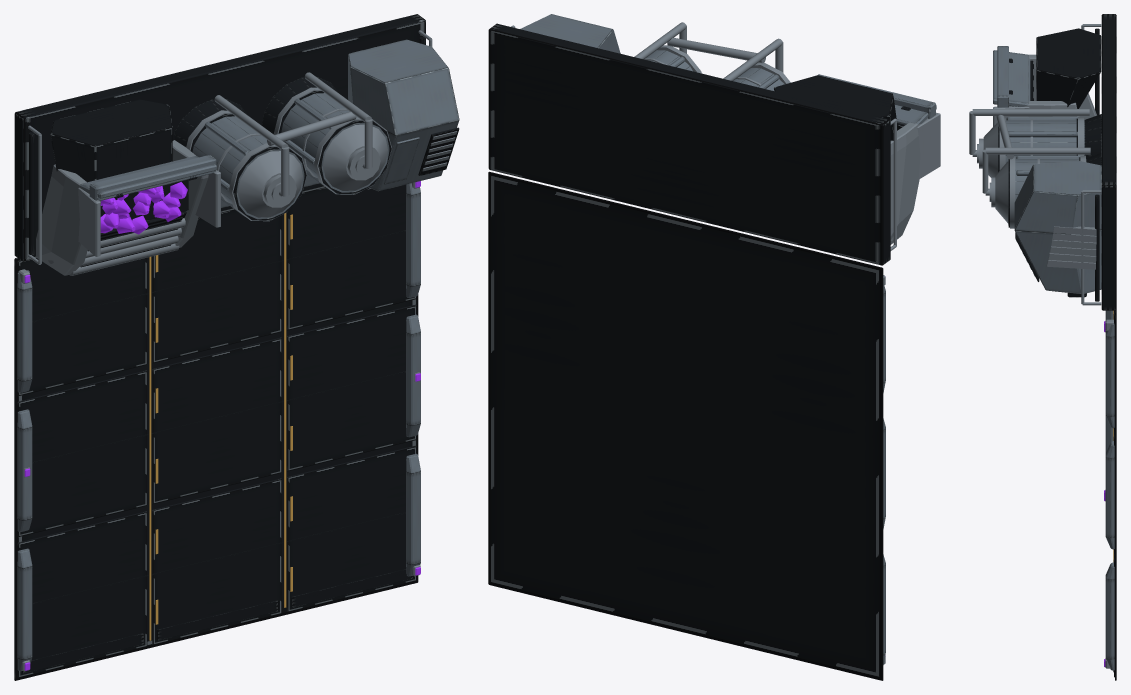
File: refinery-high.glb
The picture shows the model from 3 angles, left to right: view 1: azimuth 30°, elevation 25°; view 2: azimuth 150°, elevation 25°; view 3: azimuth 270°, elevation 25°; orthographic projection. The views are drawn at different scales.
Parts seen in each view (by area): view 1: refinery-root / Ceramic graphite, refinery-root / Brushed pale alloy, refinery-root / Titanium edges, refinery-root / Ore gold / optics, refinery-root / Violet processing; view 2: refinery-root / Ceramic graphite, refinery-root / Titanium edges, refinery-root / Brushed pale alloy; view 3: refinery-root / Brushed pale alloy, refinery-root / Ceramic graphite, refinery-root / Titanium edges.
Boxes of the visible parts, x1,y1,x2,y2 form: refinery-root / Ceramic graphite: (14, 14, 459, 680); refinery-root / Brushed pale alloy: (17, 39, 459, 671); refinery-root / Titanium edges: (18, 30, 457, 671); refinery-root / Ore gold / optics: (149, 213, 292, 640); refinery-root / Violet processing: (24, 181, 420, 670); refinery-root / Ceramic graphite: (488, 23, 910, 680); refinery-root / Titanium edges: (511, 22, 940, 664); refinery-root / Brushed pale alloy: (520, 14, 936, 664); refinery-root / Brushed pale alloy: (993, 46, 1114, 670); refinery-root / Ceramic graphite: (998, 14, 1116, 680); refinery-root / Titanium edges: (969, 24, 1114, 668).
Bounding box in the file's own units: 12 × 16.15 × 4.35.
6 materials, 2 textured.
